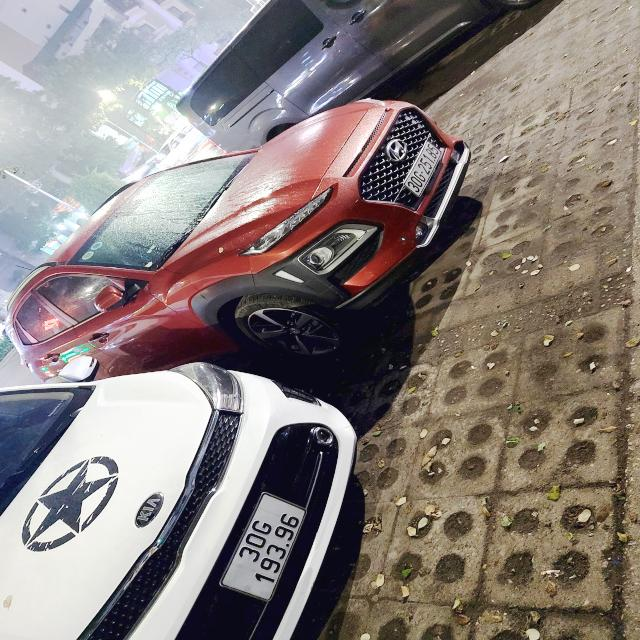license_plate: (212, 488, 315, 607), (399, 138, 448, 201)
